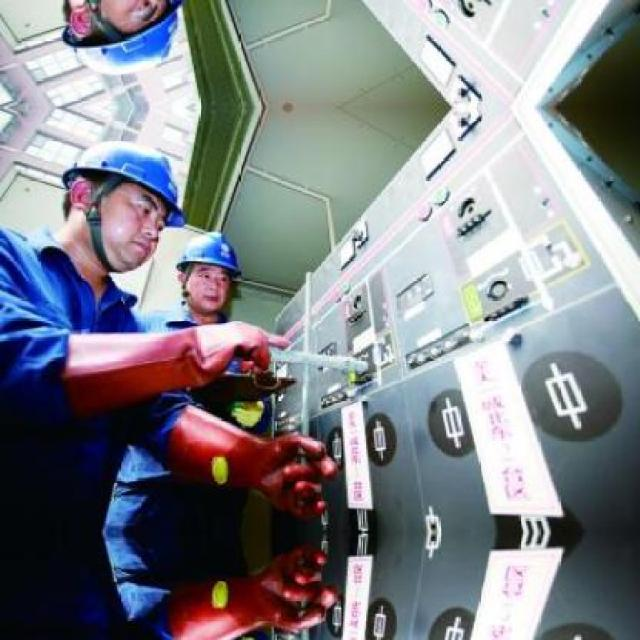helmet: (53, 133, 190, 273), (52, 0, 191, 80), (170, 224, 245, 321)
